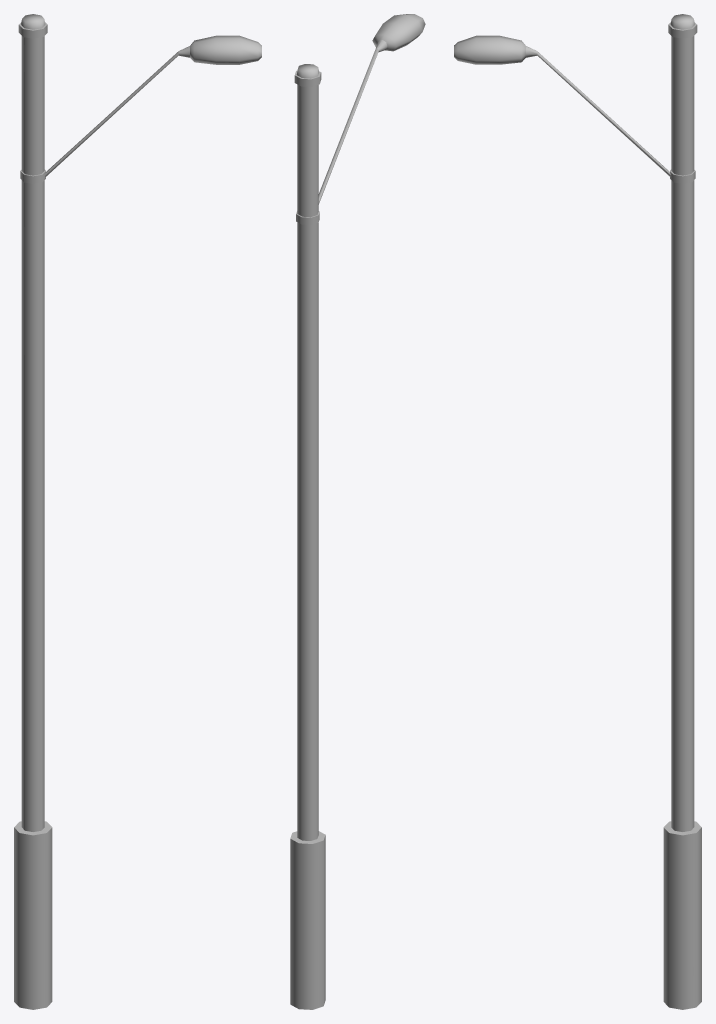
Rendered from Lightpole.FBX.
3 renders of one model, left to right at view 1: azimuth 90°, elevation 25°; view 2: azimuth 150°, elevation 25°; view 3: azimuth 270°, elevation 25°, orthographic. The views are drawn at different scales.
Parts seen in each view (by area): view 1: Cylinder001; view 2: Cylinder001; view 3: Cylinder001.
Part boxes in pixels (bbox=[...]): Cylinder001: bbox=[14, 14, 261, 1009]; Cylinder001: bbox=[290, 14, 425, 1009]; Cylinder001: bbox=[454, 14, 701, 1009].
Size of the model in its own units: 20.67 by 556 by 127.
Materials: 1 (1 with a texture image).
